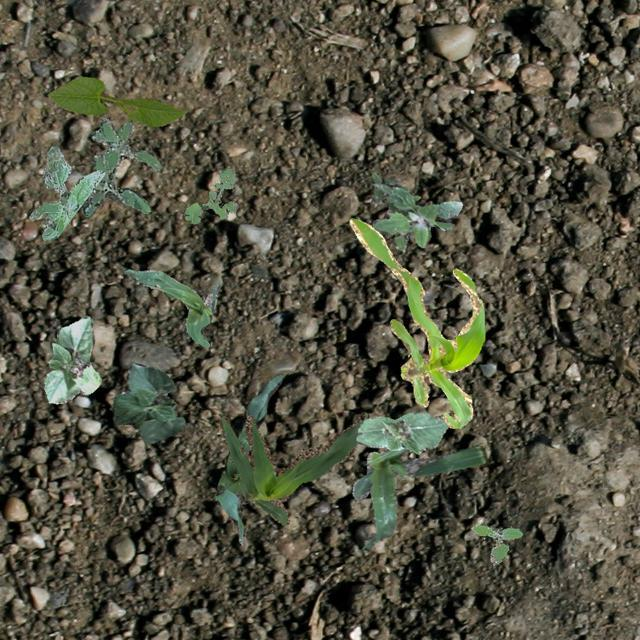crop: (348, 216, 484, 426), (352, 410, 486, 548), (218, 412, 368, 524), (214, 374, 282, 544), (122, 268, 218, 346), (46, 76, 186, 126), (112, 362, 184, 442), (42, 314, 100, 402), (356, 411, 448, 454)
weed: (80, 117, 162, 216), (369, 170, 462, 250), (28, 144, 104, 240), (182, 168, 236, 222), (469, 522, 522, 564)
